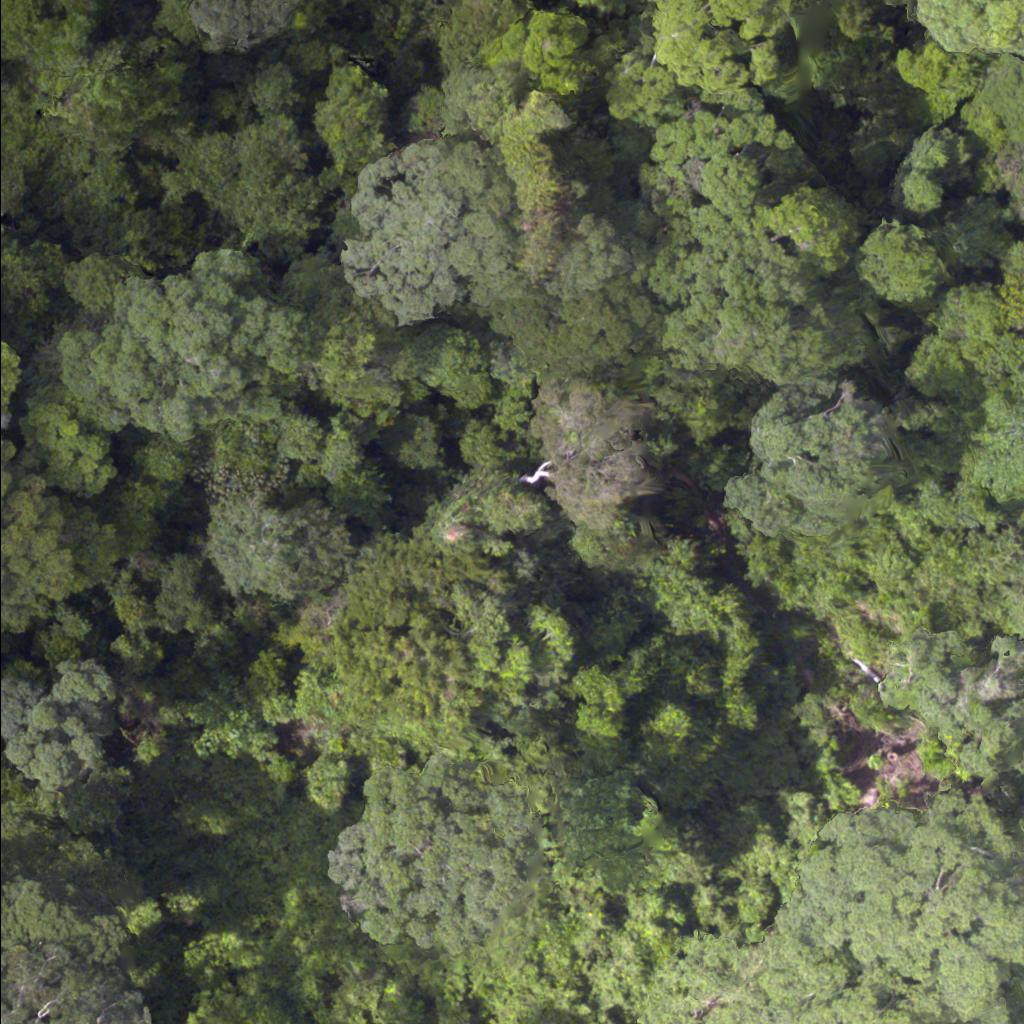crown: (234, 516, 662, 768), (621, 785, 1023, 1023), (622, 112, 856, 370), (45, 252, 318, 448), (335, 774, 584, 972), (337, 140, 532, 335), (710, 374, 910, 541), (0, 429, 148, 635), (0, 800, 150, 968), (0, 951, 158, 1023), (194, 0, 309, 59)
